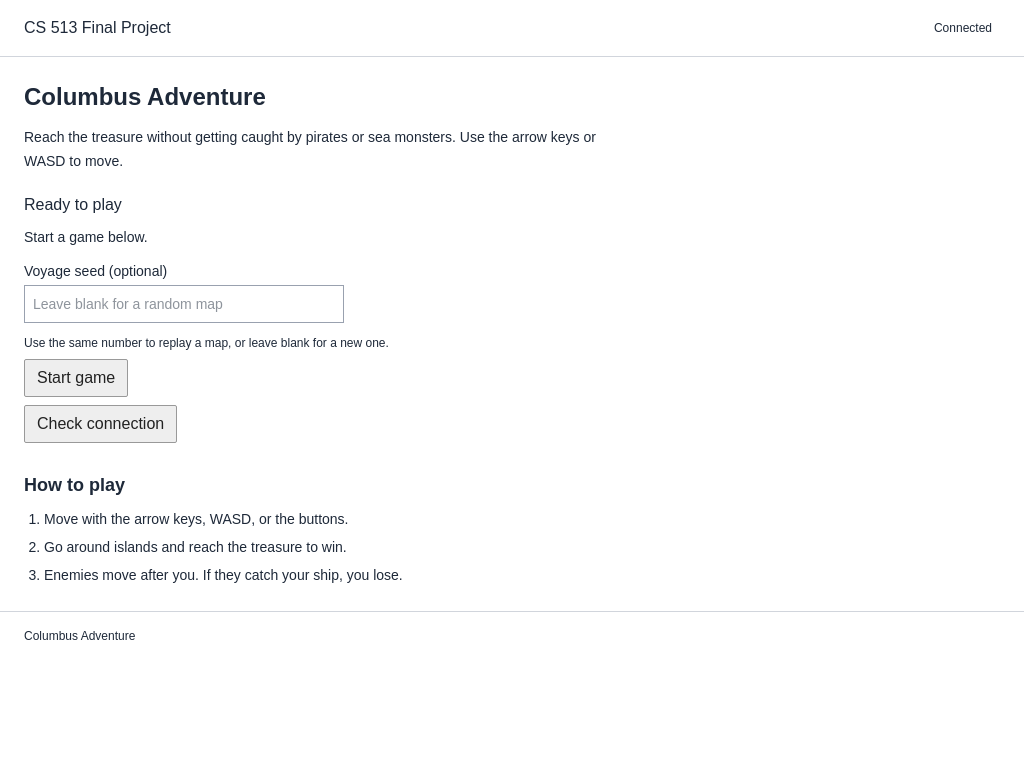
Scenario: can cancel leaving, then discard the old session and return to the harbor
Expected: the text "Connected" is shown, [934, 21, 992, 35]
Click the button "Start game" at (76, 378), box [24, 359, 128, 397]
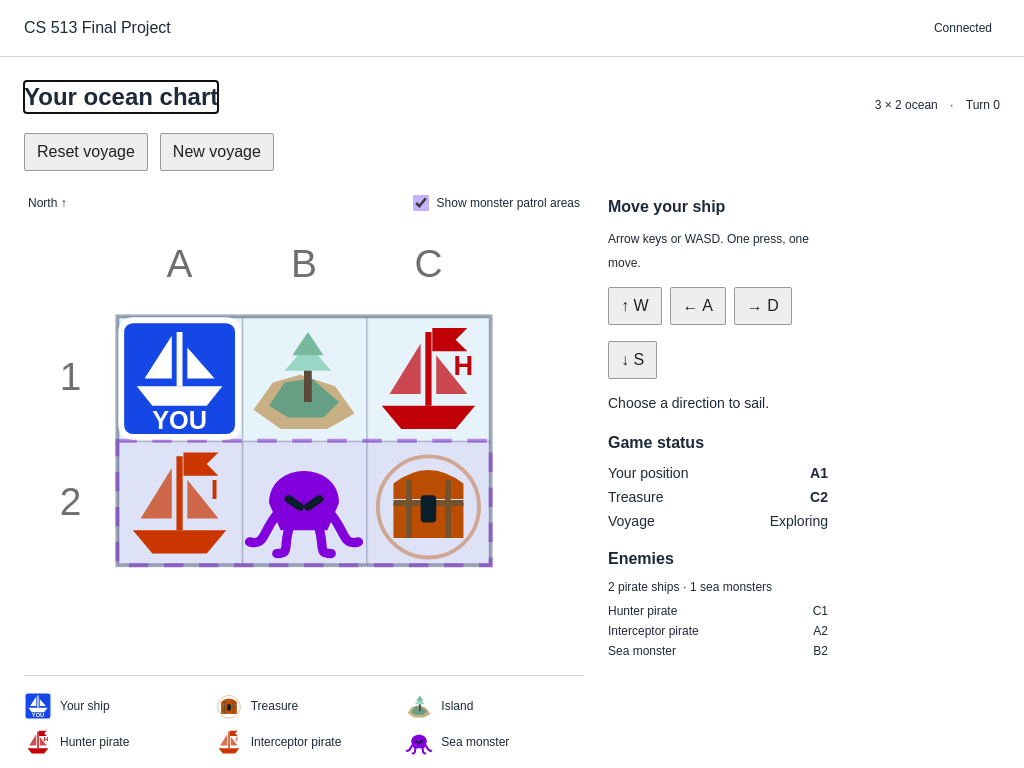
Result: the heading "Your ocean chart" is shown at [24, 81, 218, 113]
Click the button "New voyage" at (217, 152), box [160, 133, 274, 171]
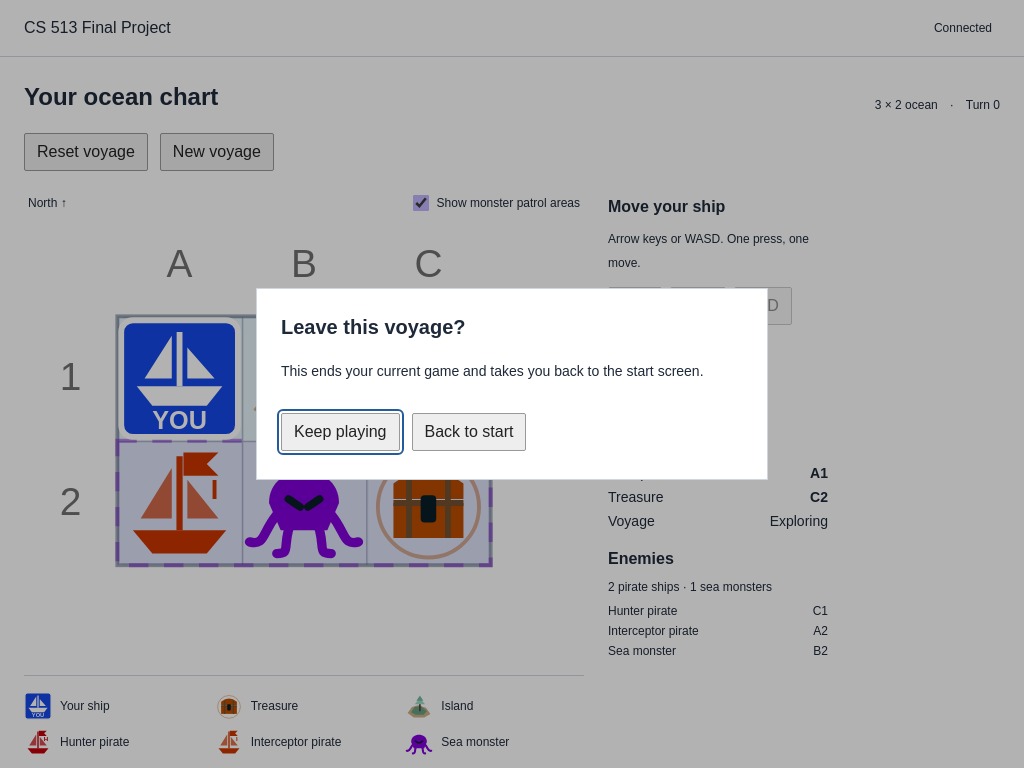
Click the button "Keep playing" at (340, 432), box [281, 413, 400, 451]
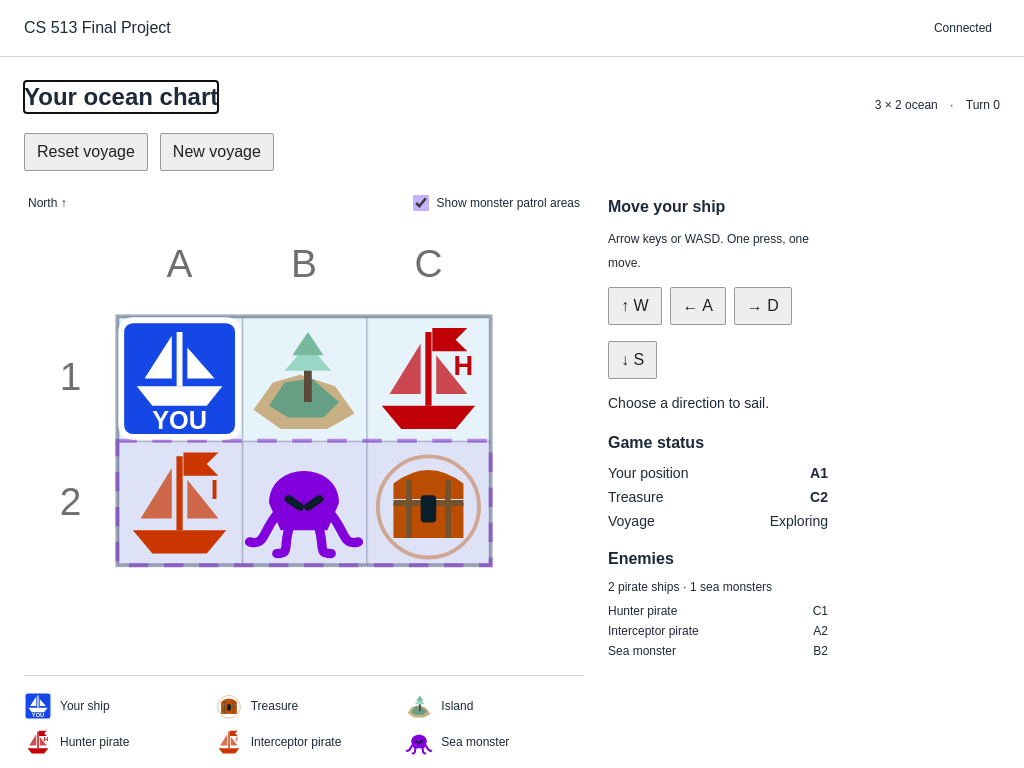
Result: the dialog is gone
Click the button "New voyage" at (217, 152), box [160, 133, 274, 171]
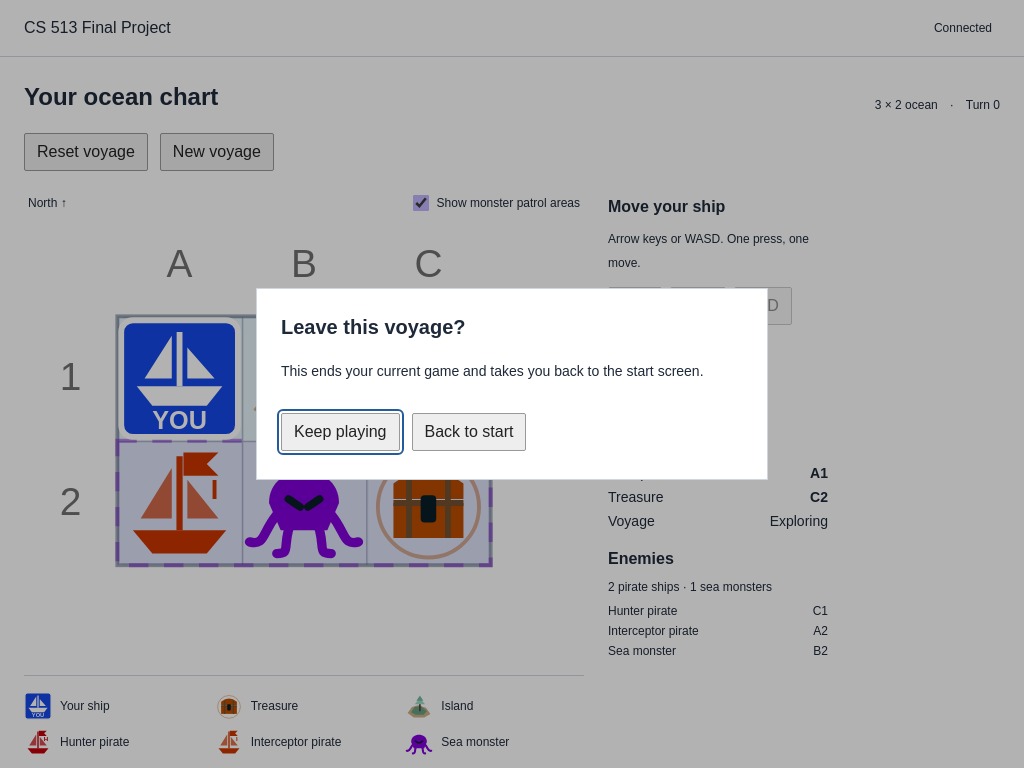
Click the button "Back to start" at (469, 432), box [412, 413, 526, 451]
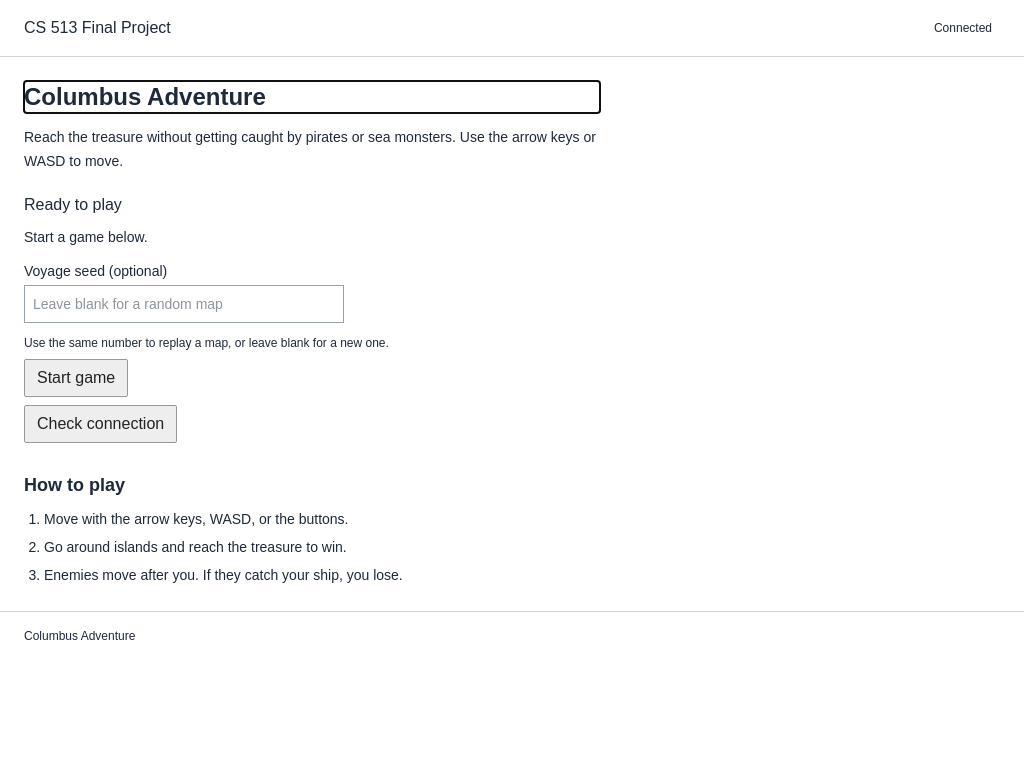
Result: the heading "Columbus Adventure" is shown at [24, 83, 266, 110]
